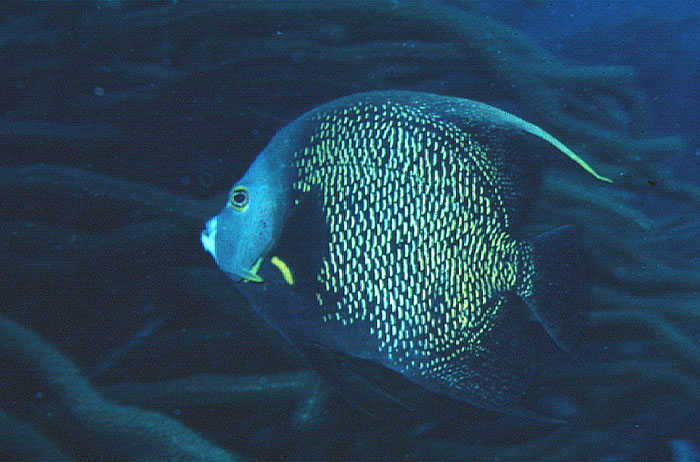Pomacanthus_paru: (180, 81, 623, 433)
